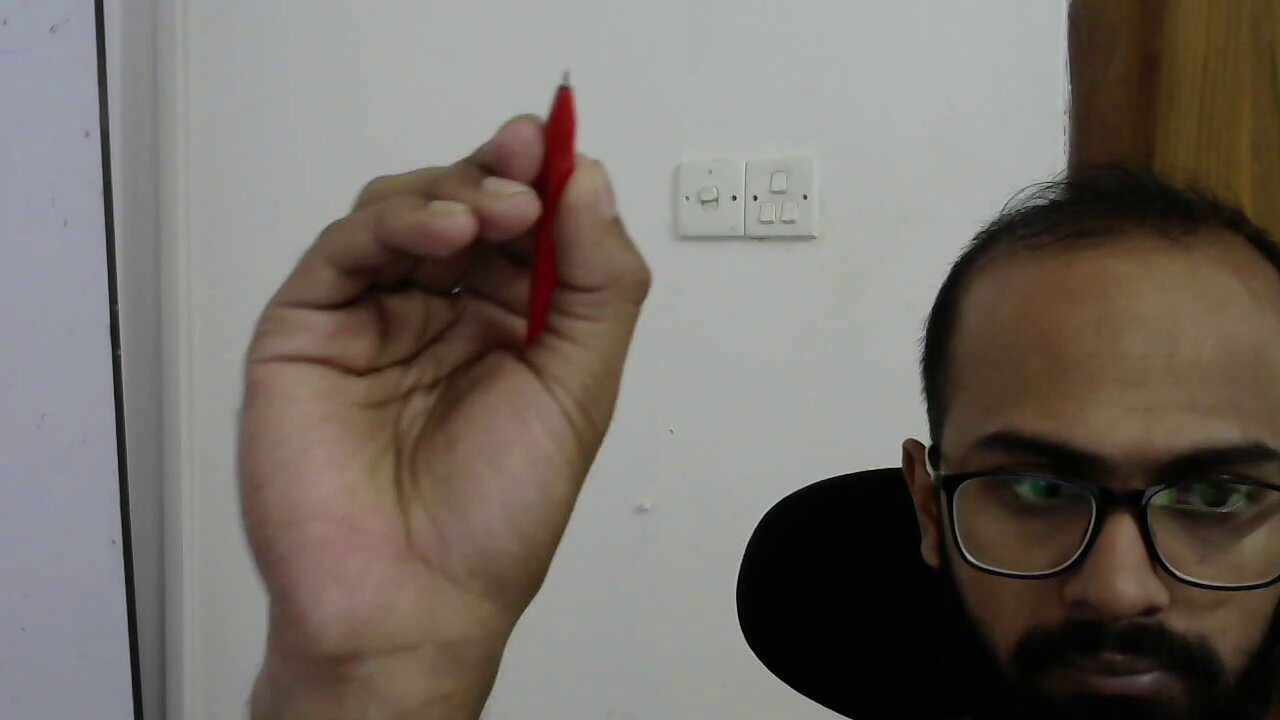pointer: (236, 110, 654, 559)
